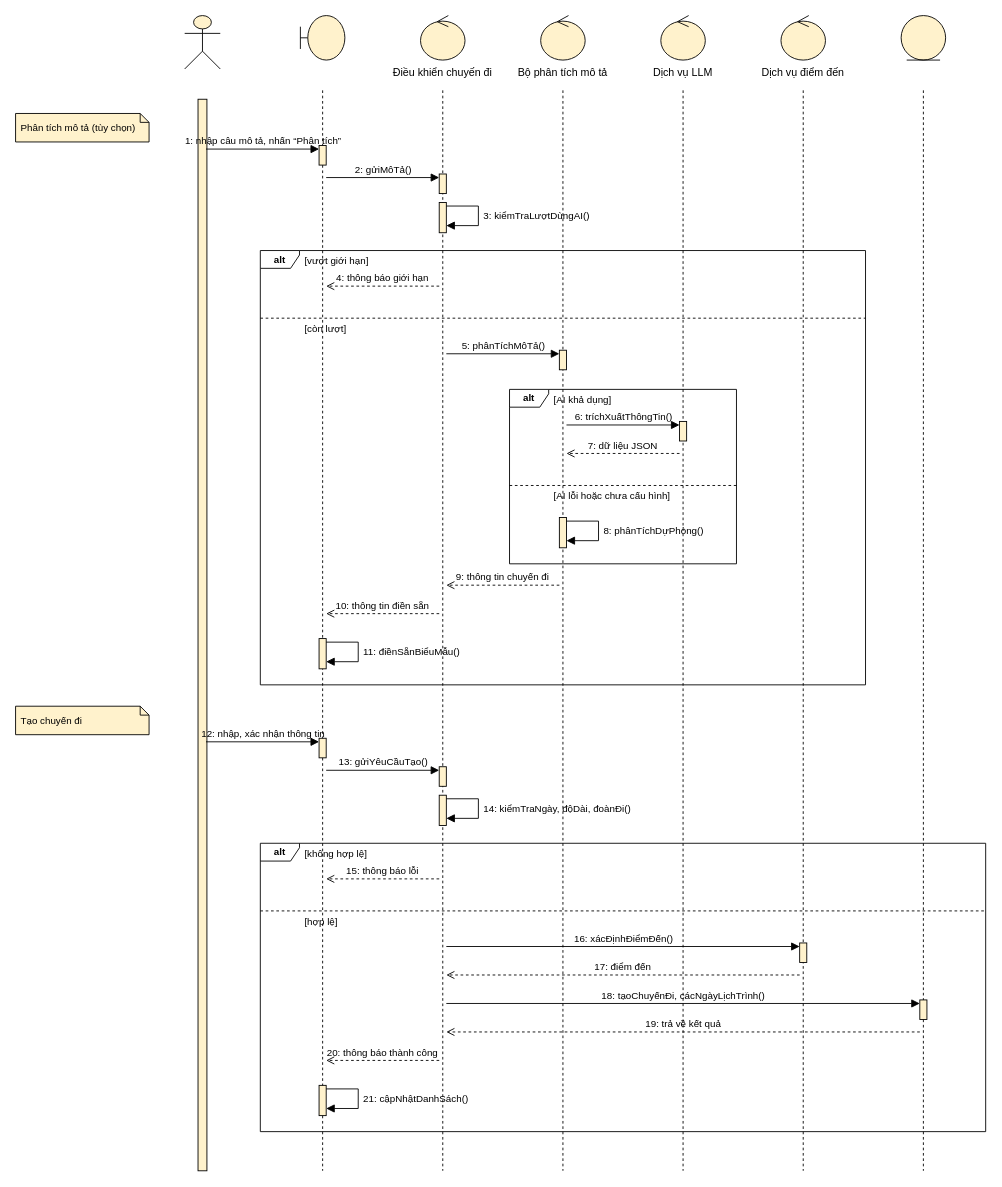
Image size: 1002x1187. Some labels were removed from this diagram. The shapes that lost their labels are listed below. From the top down, each one's box as (x1, y1, x2, y2) in pixels, then its label:
(184, 15, 220, 69): Người dùng
(299, 15, 345, 60): Giao diện tạo chuyến đi
(900, 15, 946, 60): Chuyến đi
